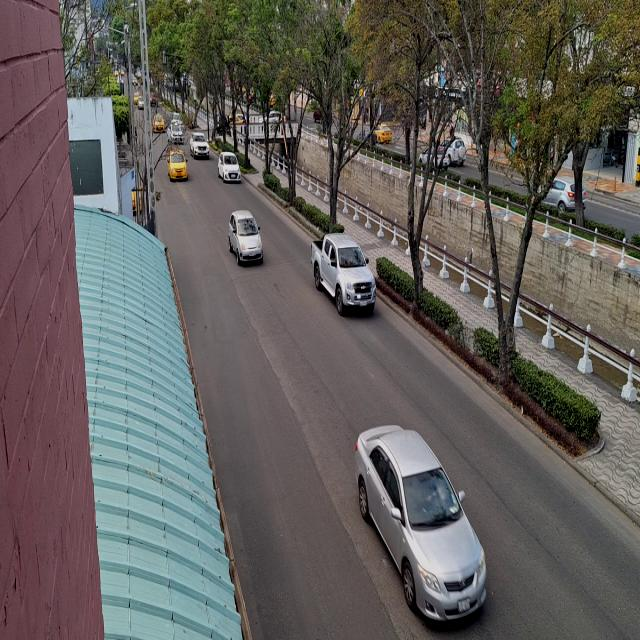CMT: (311, 233, 378, 313)
SED: (358, 431, 486, 619), (230, 214, 264, 266), (217, 148, 244, 187), (164, 145, 190, 184), (186, 129, 212, 164)
